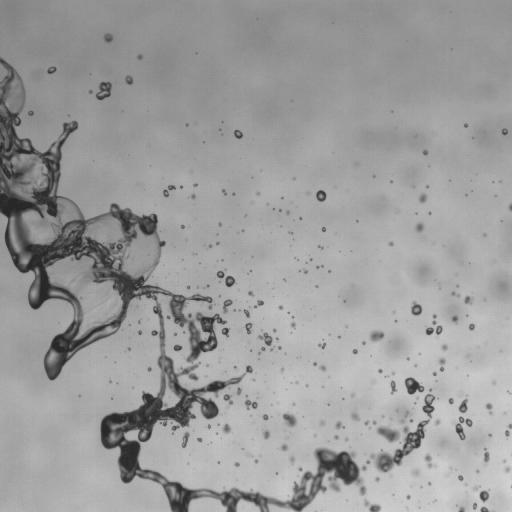droplet: (453, 417, 472, 439), (404, 377, 424, 394), (96, 82, 111, 100), (282, 412, 296, 427), (369, 329, 384, 341), (425, 325, 442, 335), (411, 301, 421, 315), (458, 398, 467, 413), (223, 299, 232, 312), (316, 190, 326, 201), (479, 490, 489, 501), (245, 399, 257, 408), (223, 394, 232, 404), (222, 424, 231, 433), (104, 33, 112, 42), (254, 300, 263, 308), (221, 327, 229, 336), (245, 323, 252, 333), (234, 130, 242, 138), (415, 223, 423, 231), (464, 296, 472, 304), (351, 412, 359, 420), (335, 421, 343, 429), (411, 468, 419, 476), (47, 66, 56, 73), (125, 75, 132, 84), (419, 193, 426, 202), (262, 430, 269, 439), (486, 403, 492, 413), (451, 315, 458, 323), (173, 344, 181, 351), (243, 309, 249, 316), (318, 342, 325, 348), (280, 444, 287, 450), (441, 344, 447, 350), (319, 365, 325, 371), (262, 414, 268, 420), (434, 419, 440, 425), (505, 466, 511, 472), (473, 485, 479, 491), (469, 323, 474, 330), (290, 456, 294, 464), (502, 128, 507, 134), (236, 388, 241, 394), (137, 54, 142, 59), (28, 110, 33, 115), (388, 241, 393, 246), (448, 398, 453, 403), (197, 437, 202, 442), (458, 475, 463, 480), (291, 322, 295, 328), (458, 507, 464, 511), (423, 150, 427, 155), (248, 291, 253, 295), (353, 349, 357, 354), (319, 421, 324, 425), (364, 420, 368, 425), (222, 190, 226, 194), (191, 194, 195, 198), (303, 269, 307, 273), (278, 305, 282, 309), (147, 367, 151, 371), (378, 369, 382, 373), (400, 419, 404, 423), (372, 420, 376, 424), (334, 435, 338, 439), (235, 462, 239, 466), (375, 477, 379, 481), (406, 495, 410, 499), (473, 503, 476, 508), (138, 330, 141, 334), (261, 347, 264, 351), (405, 412, 408, 416), (464, 124, 467, 127), (286, 211, 289, 214), (181, 225, 184, 228), (254, 459, 257, 462), (194, 183, 196, 186), (257, 192, 259, 195), (428, 212, 431, 214), (218, 223, 221, 225), (322, 228, 325, 230), (209, 244, 211, 247), (319, 246, 322, 248), (187, 286, 190, 288), (362, 342, 365, 344), (313, 363, 316, 365), (433, 372, 435, 375), (351, 394, 354, 396), (476, 470, 479, 472), (89, 91, 91, 93), (217, 242, 219, 244), (147, 244, 149, 246), (317, 266, 319, 268), (72, 278, 74, 280), (273, 329, 275, 331), (174, 333, 176, 335), (278, 346, 280, 348), (234, 366, 236, 368), (392, 372, 394, 374), (508, 391, 510, 393), (410, 420, 412, 422), (208, 425, 210, 427), (249, 454, 251, 456), (503, 460, 505, 462)
ligament: (0, 57, 363, 511), (366, 393, 436, 472), (217, 271, 236, 287), (258, 332, 273, 350), (364, 499, 380, 511), (163, 185, 175, 197), (424, 454, 435, 467), (181, 432, 189, 447), (438, 358, 445, 371), (483, 450, 489, 464), (390, 381, 396, 393), (505, 424, 511, 436), (480, 506, 492, 511), (432, 314, 436, 324), (451, 291, 458, 296), (508, 203, 511, 211)
